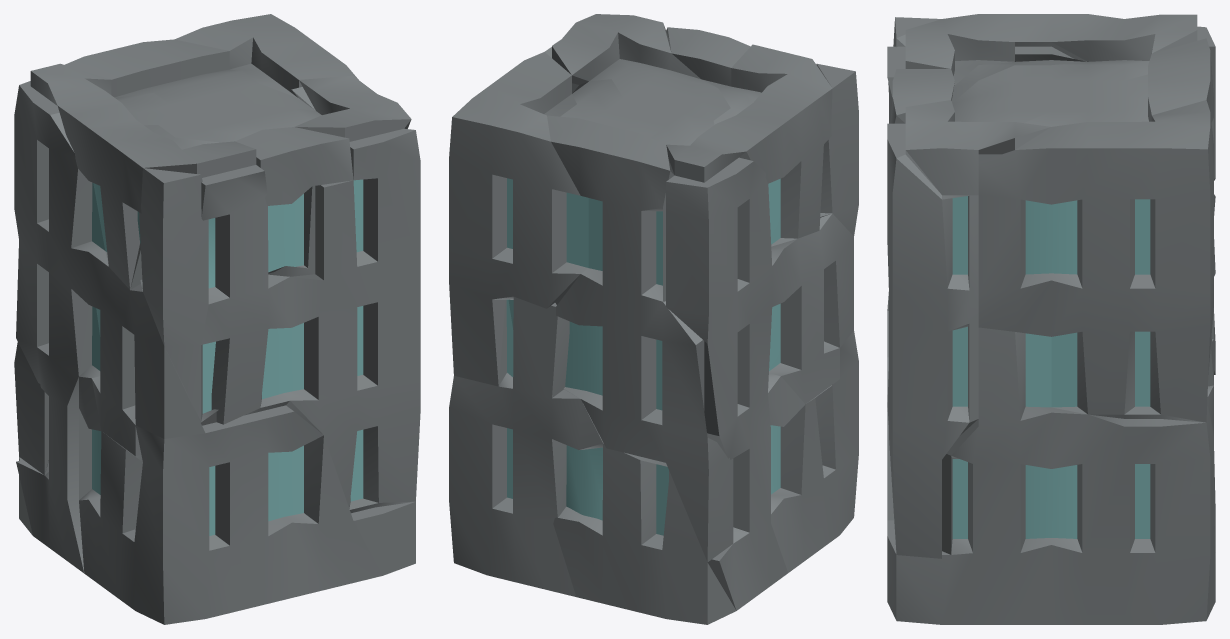
File: destructibleBuilding1.fbx
3 renders of one model, left to right at view 1: azimuth 30°, elevation 25°; view 2: azimuth 150°, elevation 25°; view 3: azimuth 270°, elevation 25°, orthographic. The views are drawn at different scales.
Visible parts, largest first — view 1: shard5, shard3, shard1, shard8, shard9, shard6, shard10, shard7, shard2; view 2: shard6, shard1, shard7, shard2, shard8, shard4, shard3, shard9, shard10; view 3: shard2, shard7, shard5, shard8, shard6, shard10, shard3, shard1, shard9.
Part boxes in pixels (left/top/right/bottom): shard5: left=201, top=128, right=420, bottom=513; shard3: left=79, top=305, right=382, bottom=624; shard1: left=14, top=81, right=205, bottom=573; shard8: left=30, top=63, right=411, bottom=289; shard9: left=137, top=168, right=218, bottom=425; shard6: left=14, top=39, right=315, bottom=474; shard10: left=144, top=125, right=353, bottom=276; shard7: left=175, top=14, right=358, bottom=98; shard2: left=351, top=501, right=415, bottom=575; shard6: left=547, top=79, right=733, bottom=562; shard1: left=666, top=157, right=853, bottom=610; shard7: left=449, top=47, right=588, bottom=386; shard2: left=449, top=297, right=603, bottom=596; shard8: left=552, top=14, right=832, bottom=246; shard4: left=553, top=443, right=736, bottom=624; shard3: left=768, top=331, right=858, bottom=572; shard9: left=816, top=63, right=858, bottom=235; shard10: left=666, top=27, right=750, bottom=124; shard2: left=887, top=327, right=1215, bottom=624; shard7: left=978, top=100, right=1215, bottom=422; shard5: left=887, top=46, right=978, bottom=558; shard8: left=905, top=14, right=1197, bottom=195; shard6: left=1024, top=38, right=1215, bottom=374; shard10: left=890, top=46, right=1087, bottom=123; shard3: left=887, top=311, right=894, bottom=520; shard1: left=887, top=26, right=1215, bottom=310; shard9: left=893, top=17, right=941, bottom=47.
Bounding box in the file's own units: 9 × 14.5 × 9.
